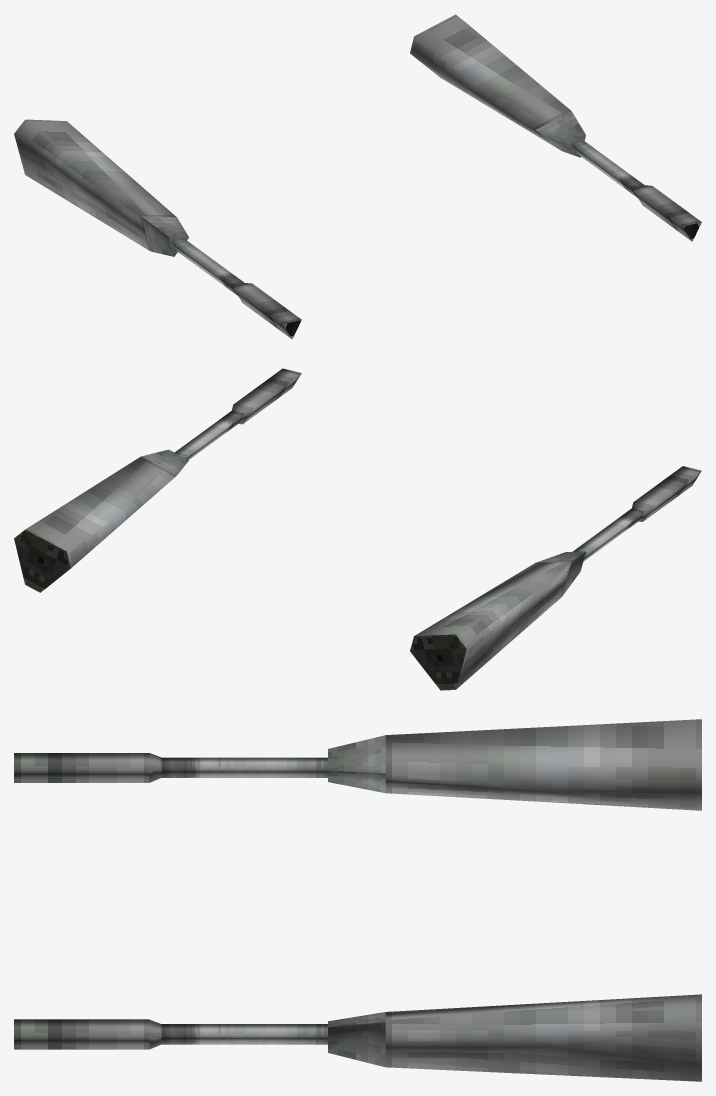
File: hutt_fighter_heavy_weapon1_s05_l2.fbx
3 renders of one model, top to bottom at view 1: azimuth 30°, elevation 25°; view 2: azimuth 150°, elevation 25°; view 3: azimuth 270°, elevation 25°, orthographic. The views are drawn at different scales.
Visible parts, largest first — view 1: mesh_node; view 2: mesh_node; view 3: mesh_node.
Boxes of the visible parts, bbox=[...] form: mesh_node: bbox=[14, 14, 701, 338]; mesh_node: bbox=[14, 368, 701, 690]; mesh_node: bbox=[14, 719, 701, 1081].
Size of the model in its own units: 2.7 by 0.3399 by 2.6.
1 material, 1 textured.
